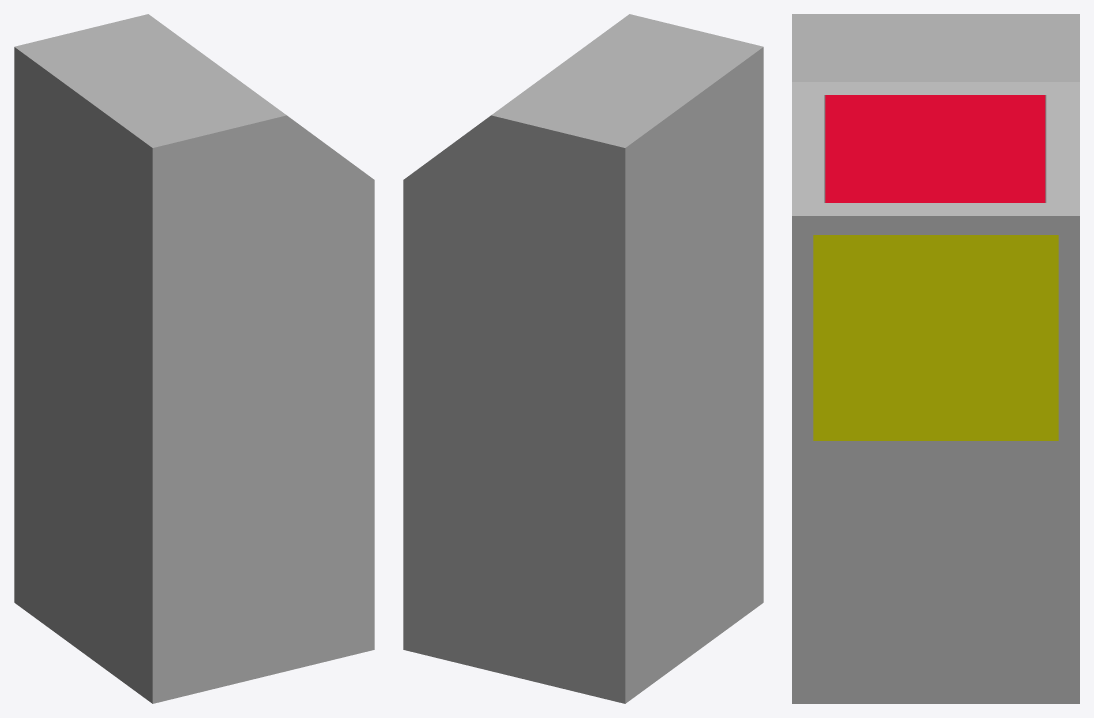
The model's file is muelleimer.glb.
The picture shows the model from 3 angles, left to right: view 1: azimuth 30°, elevation 25°; view 2: azimuth 150°, elevation 25°; view 3: azimuth 270°, elevation 25°; orthographic projection. The views are drawn at different scales.
Parts seen in each view (by area): view 1: Cube; view 2: Cube; view 3: Cube, Cube.001.
Part boxes in pixels (bbox=[...]): Cube: bbox=[14, 14, 374, 703]; Cube: bbox=[403, 14, 763, 703]; Cube: bbox=[792, 14, 1079, 703]; Cube.001: bbox=[825, 95, 1045, 202].
Bounding box in the file's own units: 0.3776 × 0.9031 × 0.4078.
